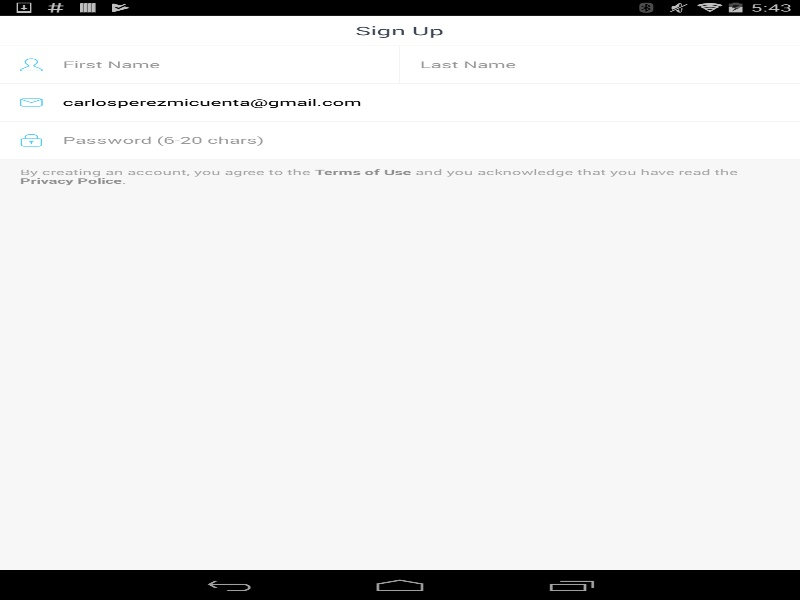Input: (0, 83, 800, 121), (0, 121, 800, 159), (400, 45, 800, 83), (0, 45, 399, 83)
